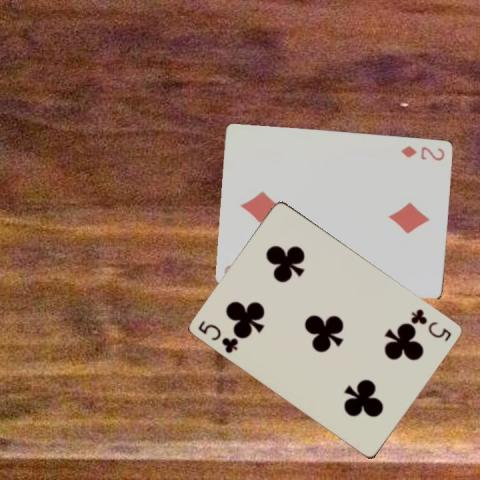2d: (398, 143, 445, 162)
5c: (195, 317, 241, 355), (408, 306, 453, 343)
